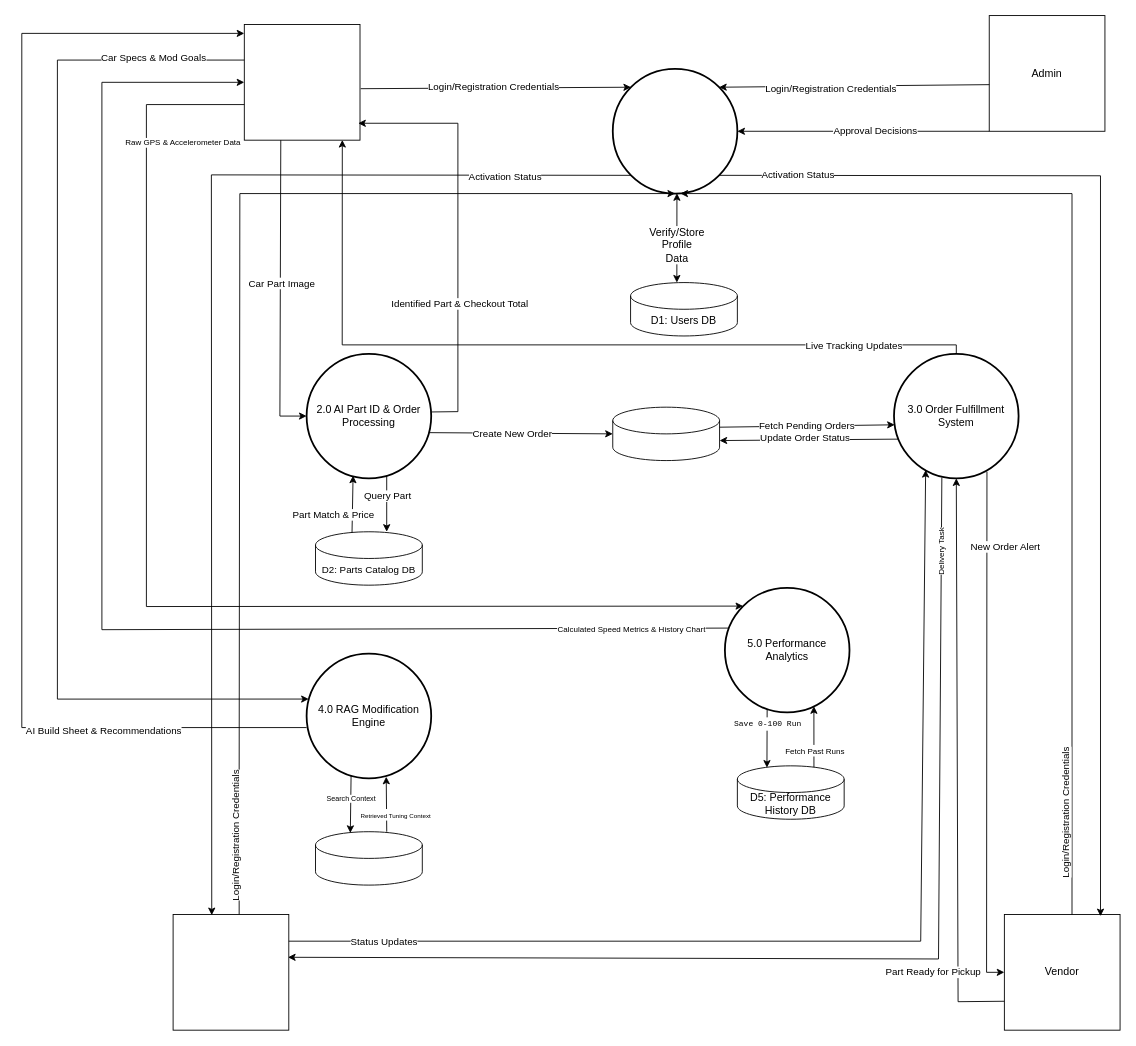
Some shapes in this 1136 by 1046 pixel diagram are drawn without their labels. The shapes that lost their labels are listed below. From the top down, each one's centre as x and y in pixels, then its label:
At (x=301, y=82): "Customer".
At (x=674, y=131): "1.0 User & Role Management".
At (x=666, y=433): "D3: Orders DB".
At (x=368, y=858): "D4: Knowledge Base".
At (x=230, y=972): "Rider".
